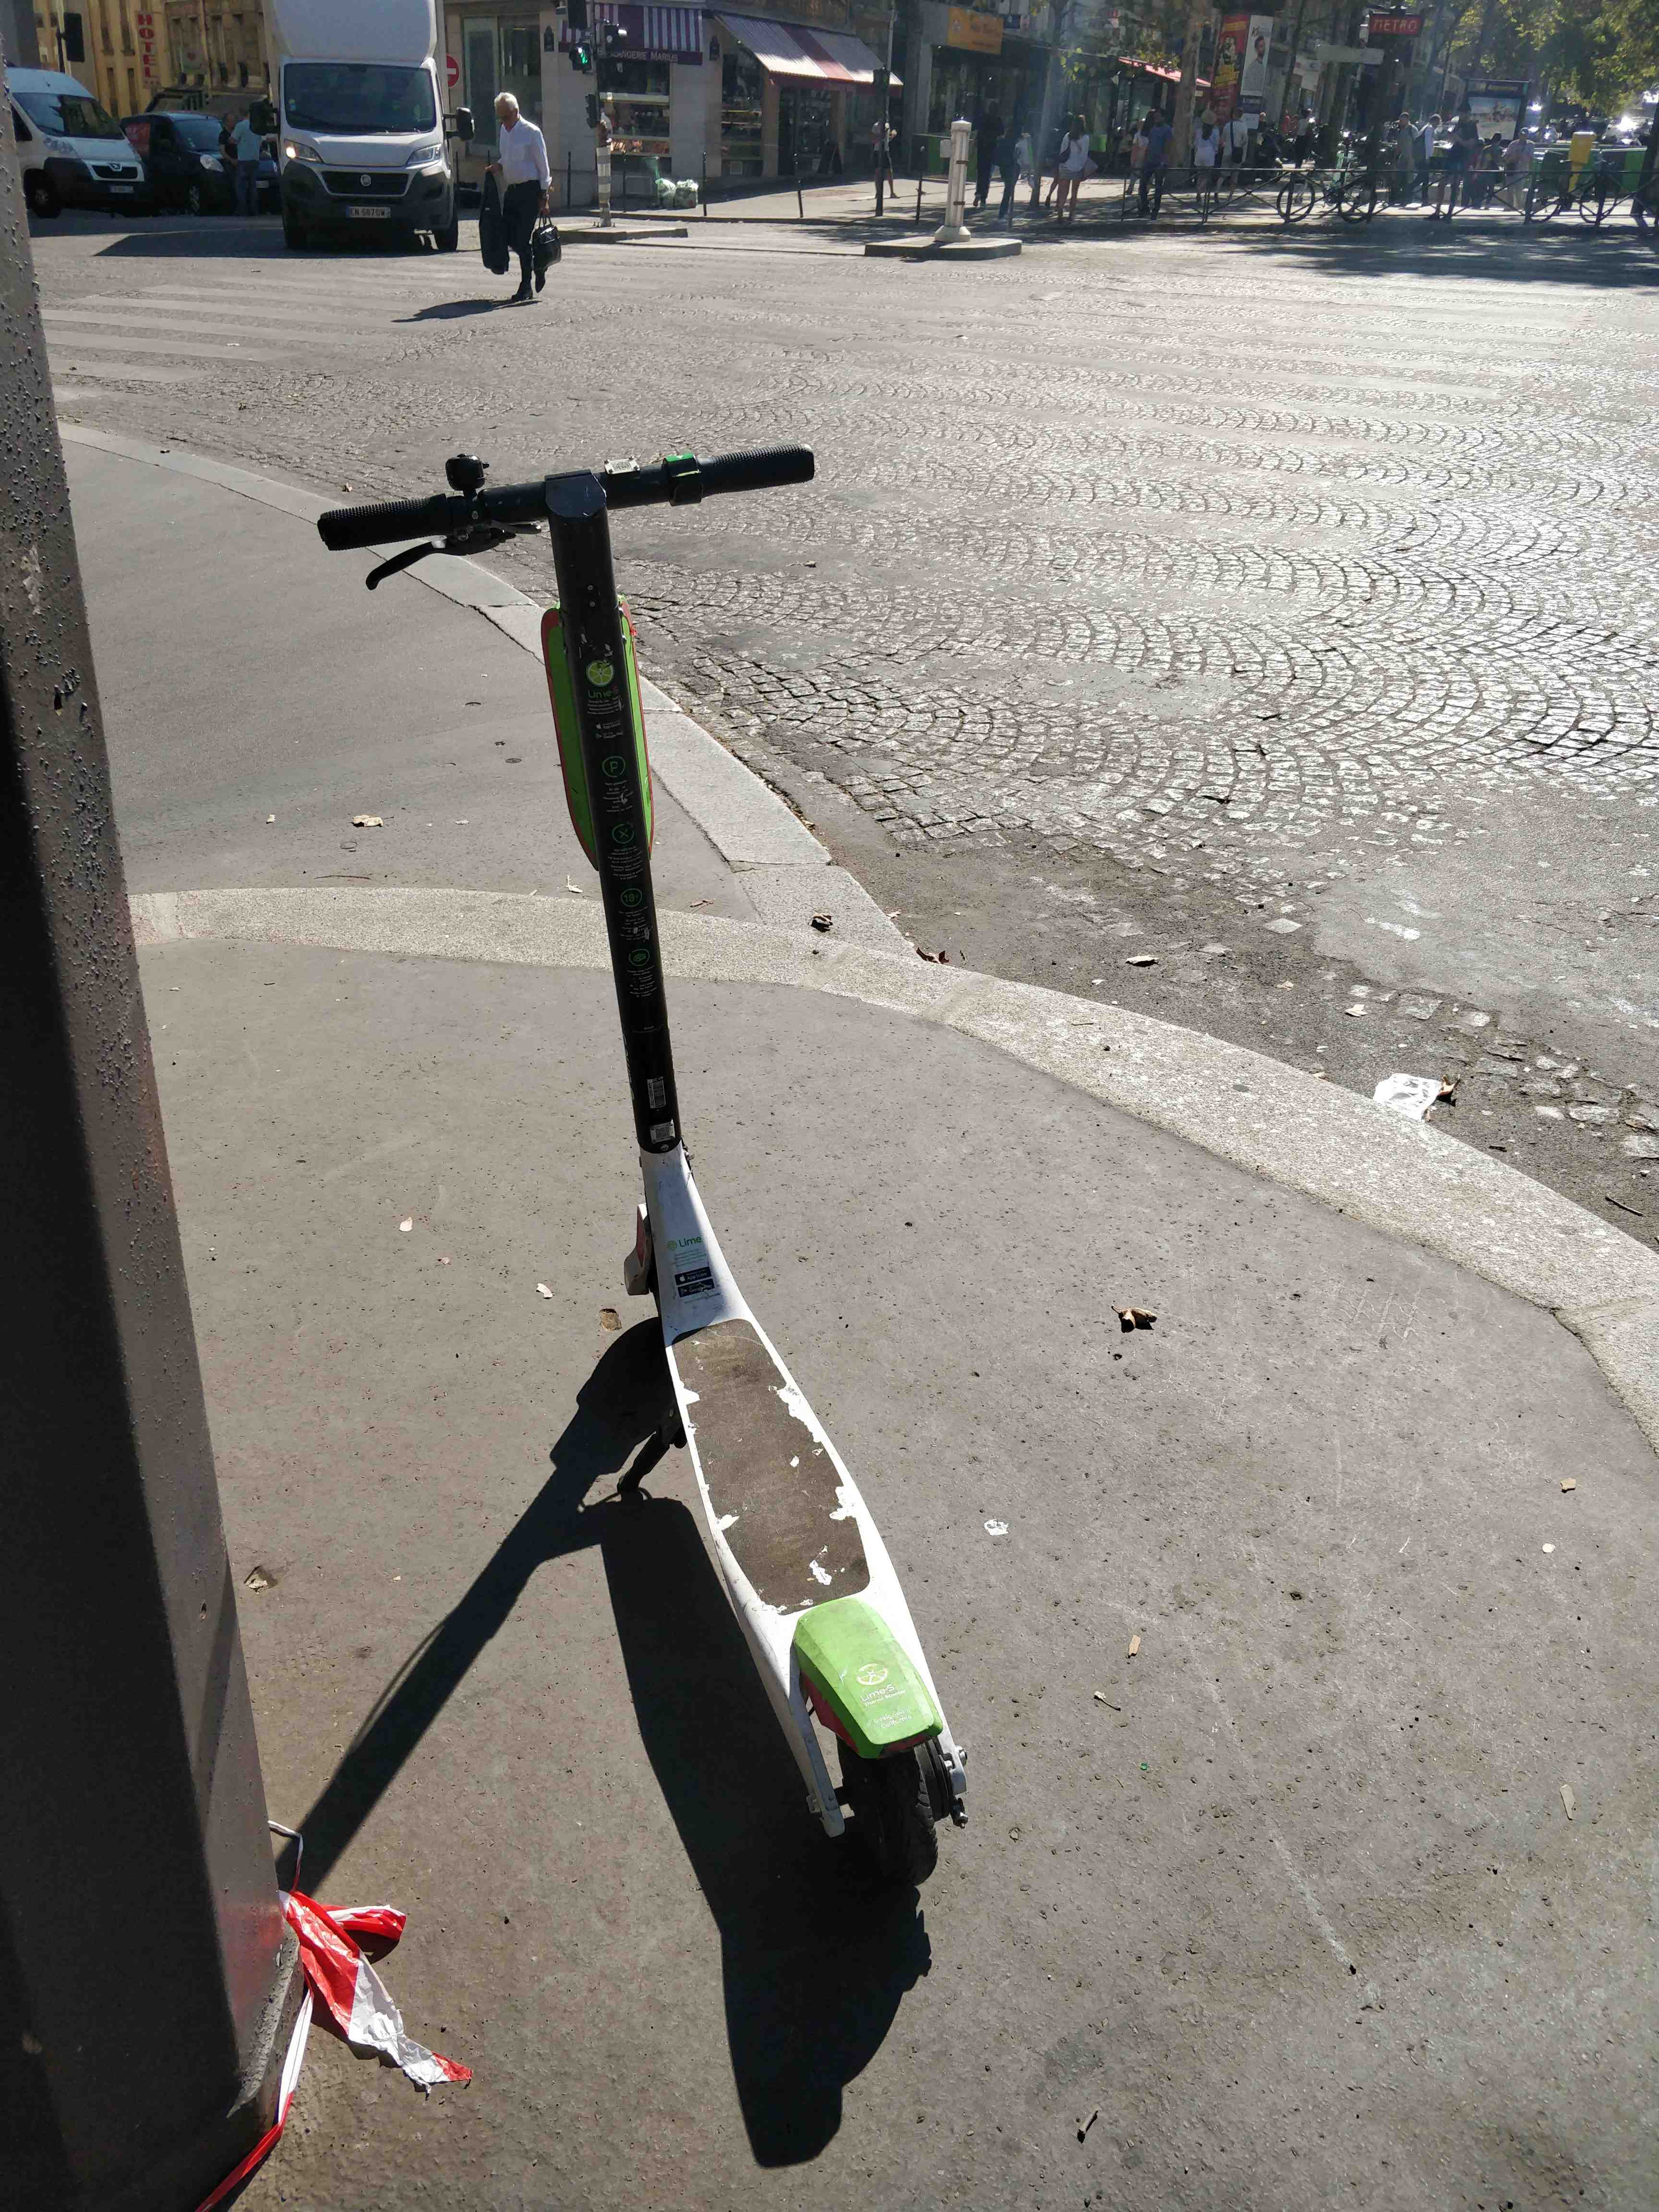scooter: (293, 395, 1087, 1888)
